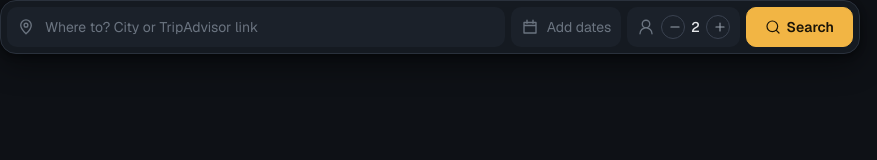
Test: SearchBar › asks for a city before searching
Click the button "Search": (799, 27) [746,7,853,47]
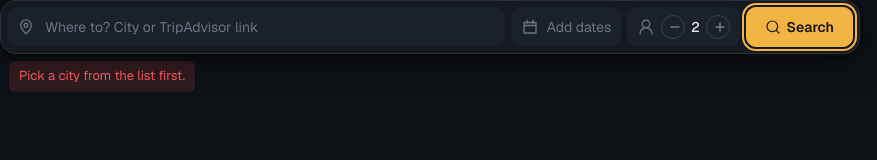
Check: the message reads "Pick a city from the list first.", box [19,67,185,84]
